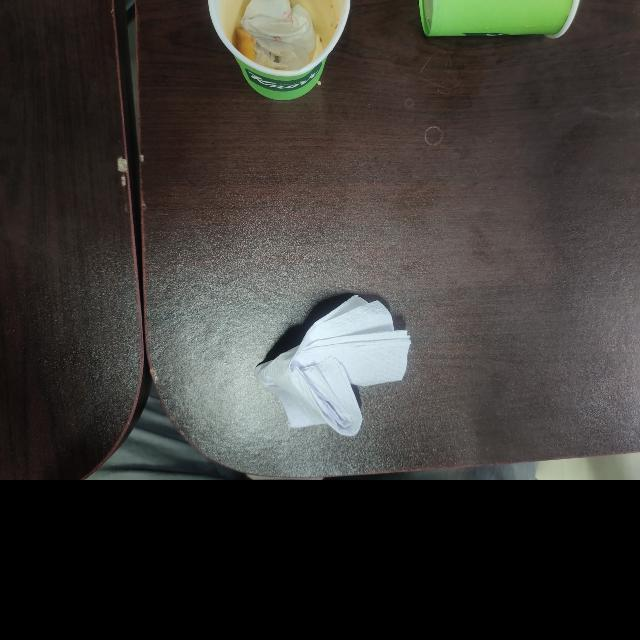kitchen paper: (255, 287, 420, 443), (238, 0, 320, 66)
